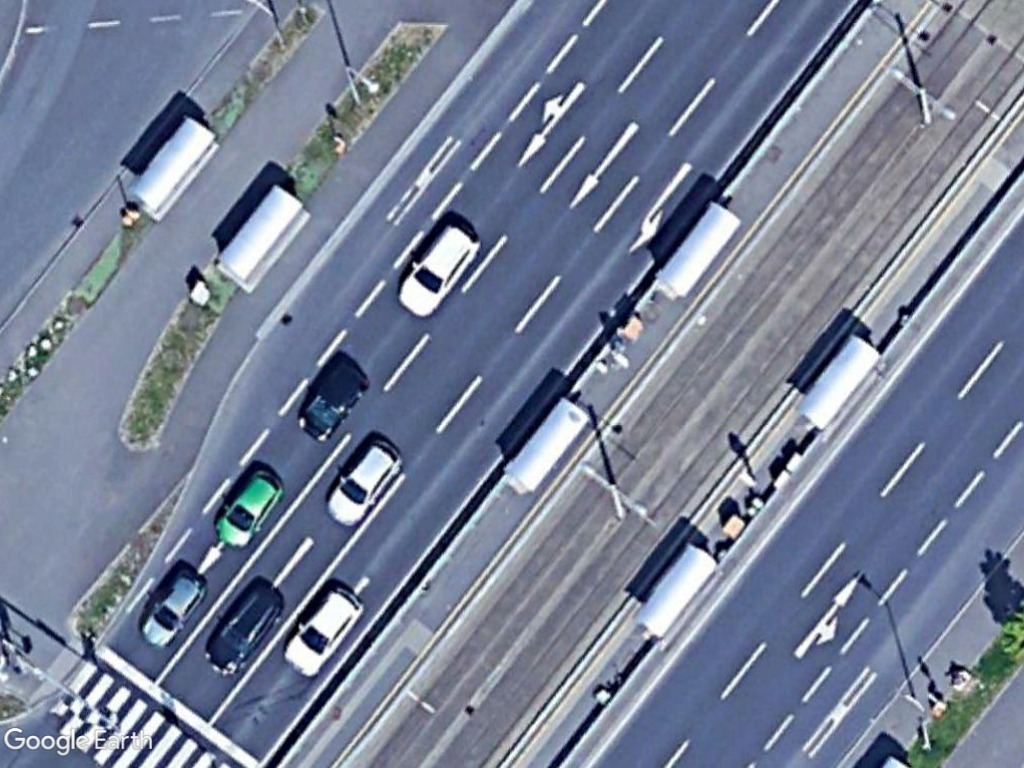car: (393, 221, 483, 322), (200, 577, 287, 679), (320, 433, 406, 533), (282, 582, 365, 677), (208, 464, 288, 552), (295, 357, 373, 445), (137, 568, 210, 651)
